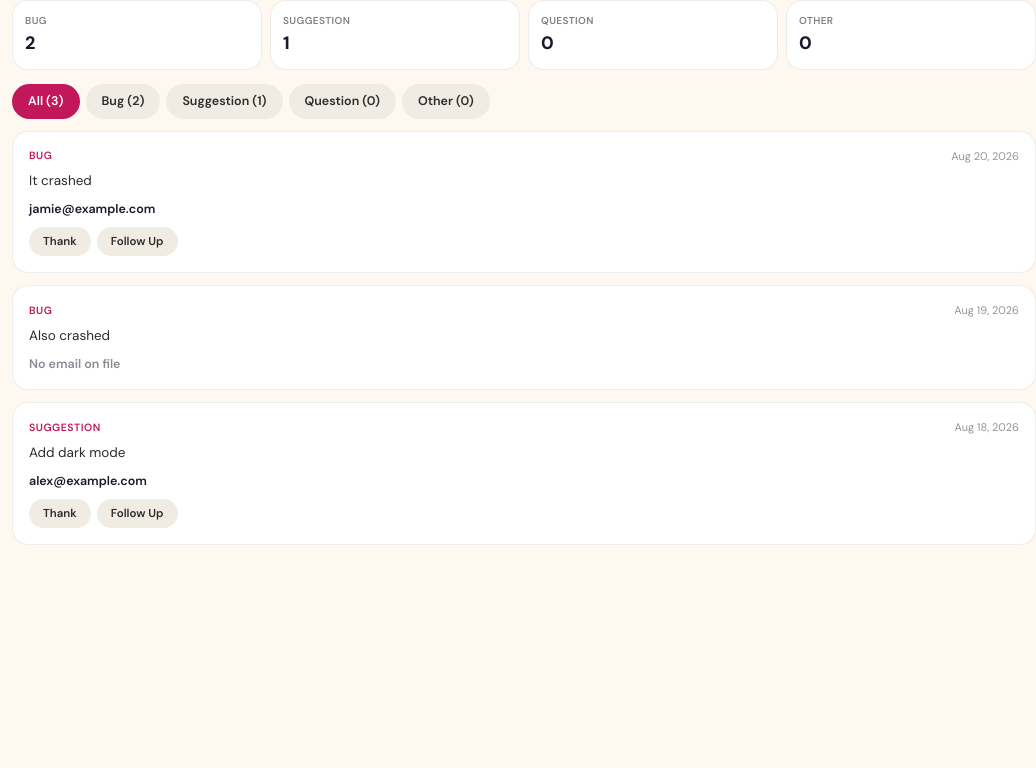
FeedbackFeed › shows a type-specific empty state when a filter matches nothing
The width and height of the screenshot is (1036, 768).
Click the radio button labelled "Question (0)".
click(342, 101)  # box [288,84,396,119]
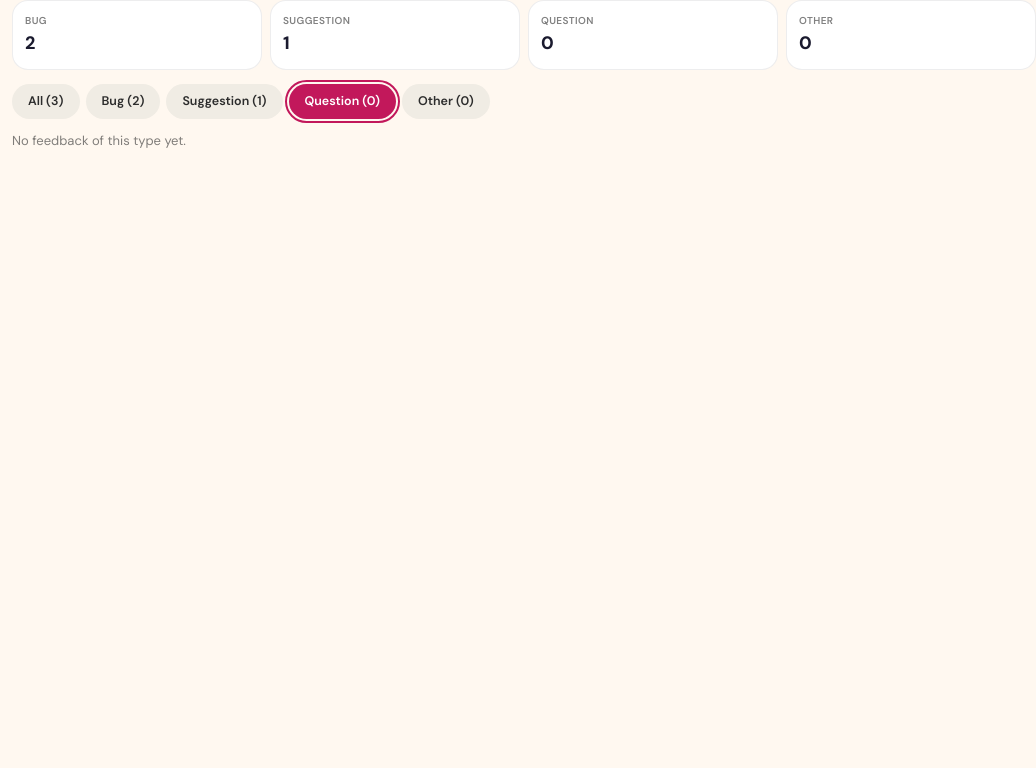
Now the text "No feedback of this type yet." is shown, box [12,132,186,149]
